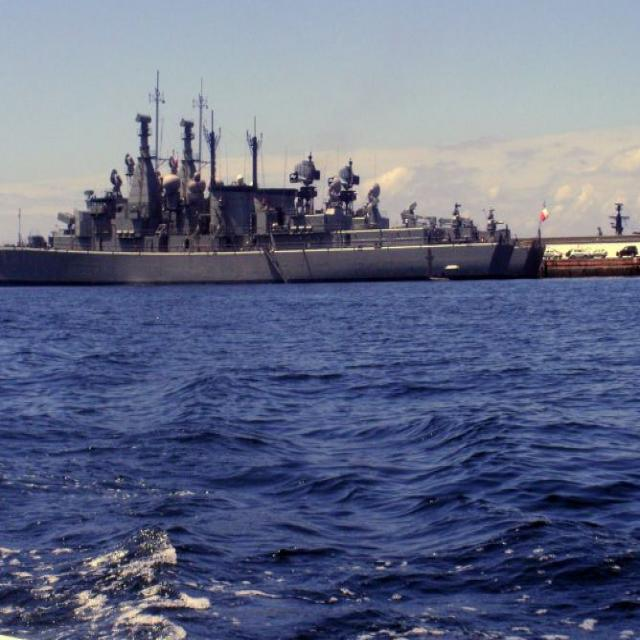Fragata: (1, 115, 522, 291)
